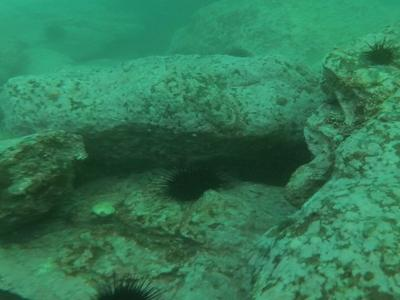scallop: (93, 199, 115, 217)
urchin: (167, 168, 225, 199), (96, 277, 145, 296), (369, 43, 391, 66)
